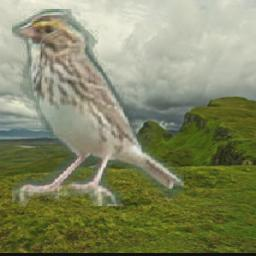Sparrow: (13, 9, 185, 206)
